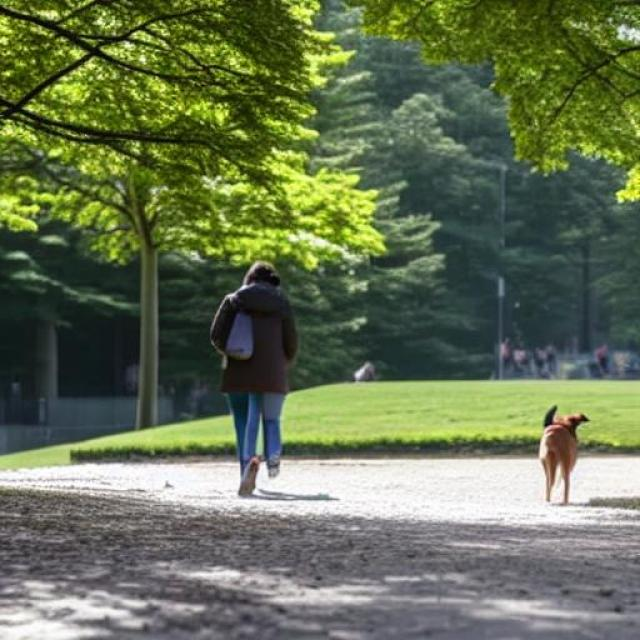Unleashed_Dog: (229, 370, 592, 504)
